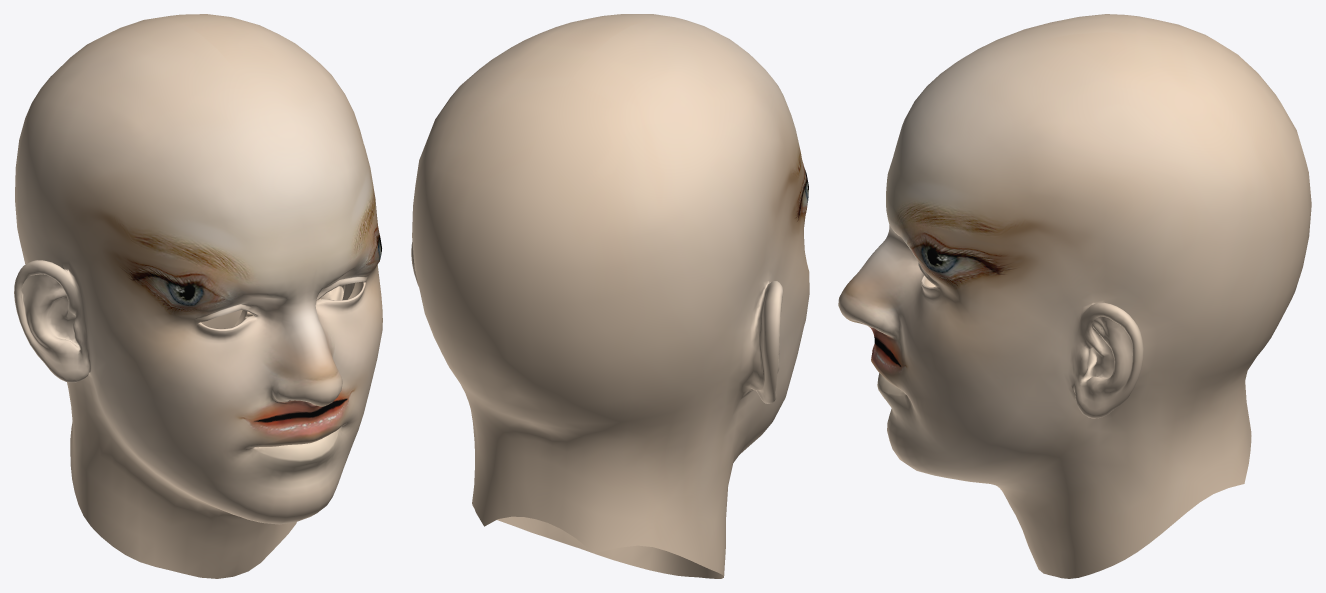
The model's file is reference_head.obj.
3 views of the same model, side by side, from view 1: azimuth 30°, elevation 25°; view 2: azimuth 150°, elevation 25°; view 3: azimuth 270°, elevation 25° (orthographic). The views are drawn at different scales.
Parts seen in each view (by area): view 1: default; view 2: default; view 3: default.
Part boxes in pixels (bbox=[...]): default: bbox=[14, 14, 382, 578]; default: bbox=[411, 14, 809, 578]; default: bbox=[838, 14, 1311, 578].
Bounding box in the file's own units: 184 × 269 × 217.
1 material, 1 textured.
